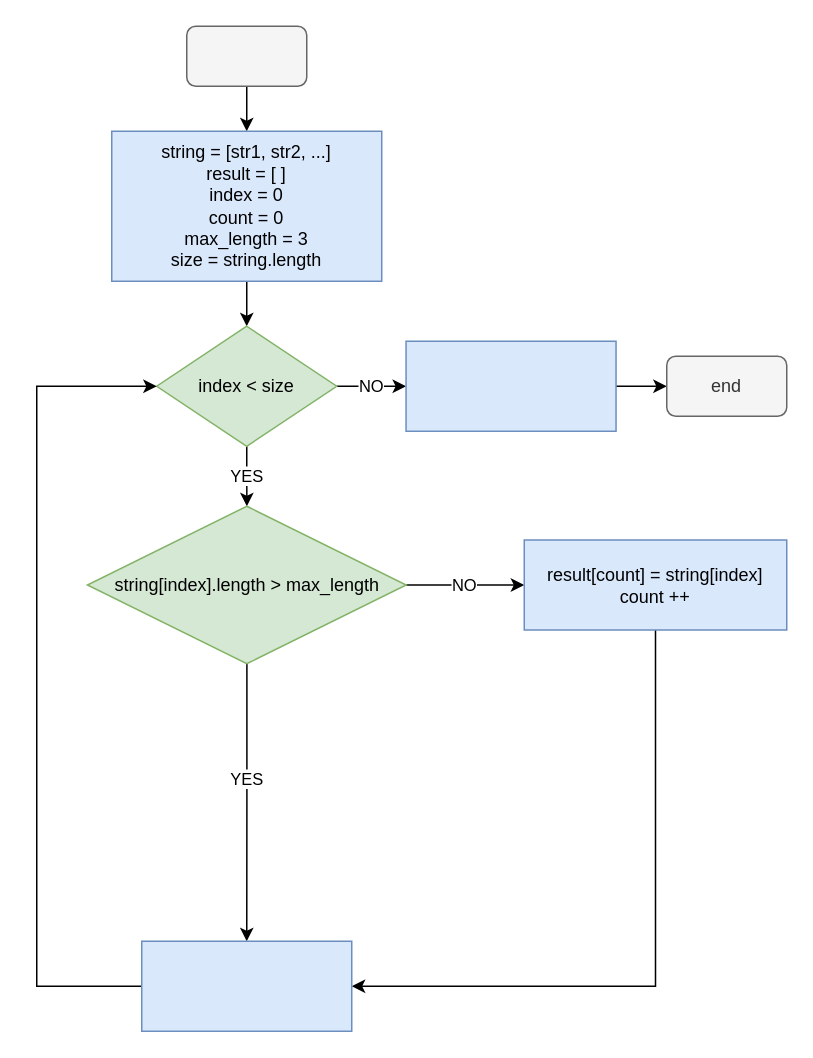
Image size: 813x1058. Some labels were removed from this diagram. Each missing label, with the centre of its shape:
"index ++" belongs at point (246, 985).
"print (result)" belongs at point (510, 385).
"start" belongs at point (246, 55).
